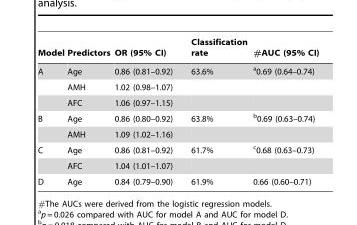table: (37, 37, 318, 185)
table column: (111, 37, 181, 185), (249, 37, 318, 185), (181, 37, 249, 185), (65, 37, 111, 185), (37, 37, 65, 185)
table column header: (37, 37, 318, 60)
table row: (37, 37, 318, 60), (37, 60, 318, 79), (37, 109, 318, 126), (37, 141, 318, 157), (37, 157, 318, 173), (37, 79, 318, 94), (37, 94, 318, 109), (37, 126, 318, 141), (37, 173, 318, 185)
table spanning cell: (37, 60, 65, 109), (37, 109, 65, 141), (37, 141, 65, 173)
